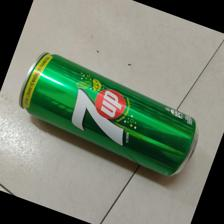7up: (19, 49, 200, 180)
